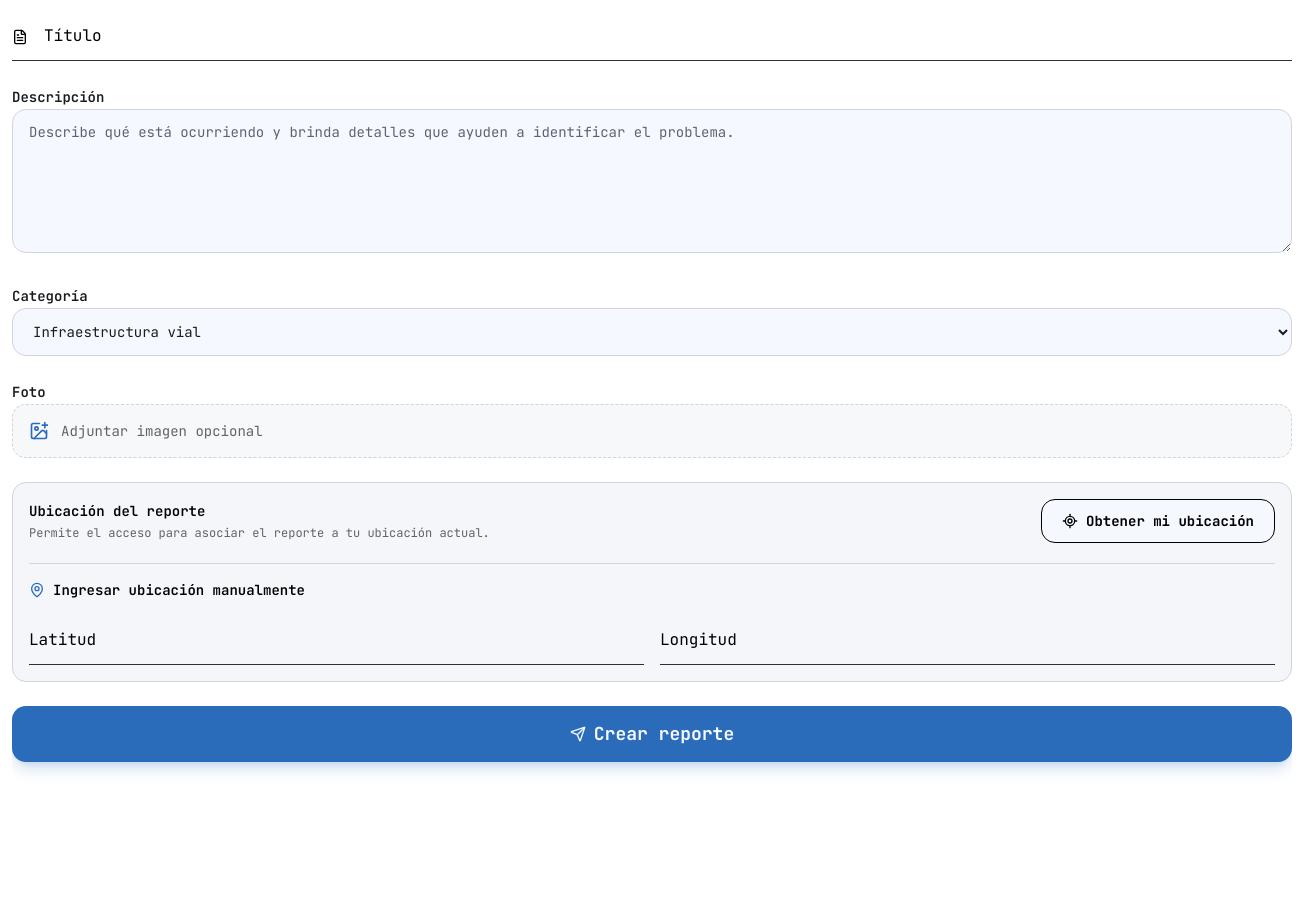
Test: CreateReportForm › muestra un error si el envío al backend falla
Type "Andén roto" into the field labelled "Título" at (652, 36), box left=12, top=12, right=1292, bottom=61
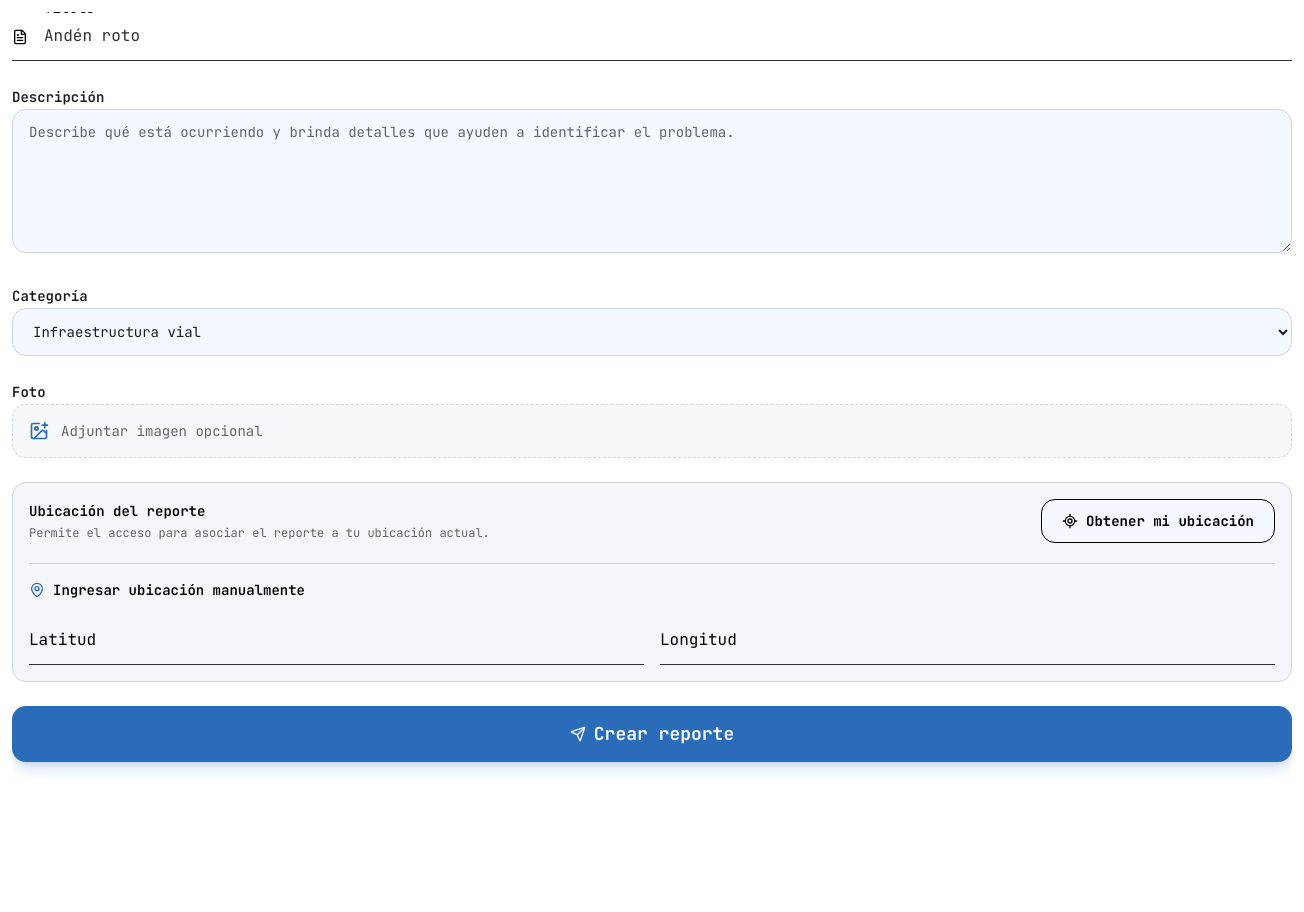
Replace the text in the text box labelled "Descripción" with "Hay una losa levantada en la esquina." at (652, 181), box left=12, top=109, right=1292, bottom=253
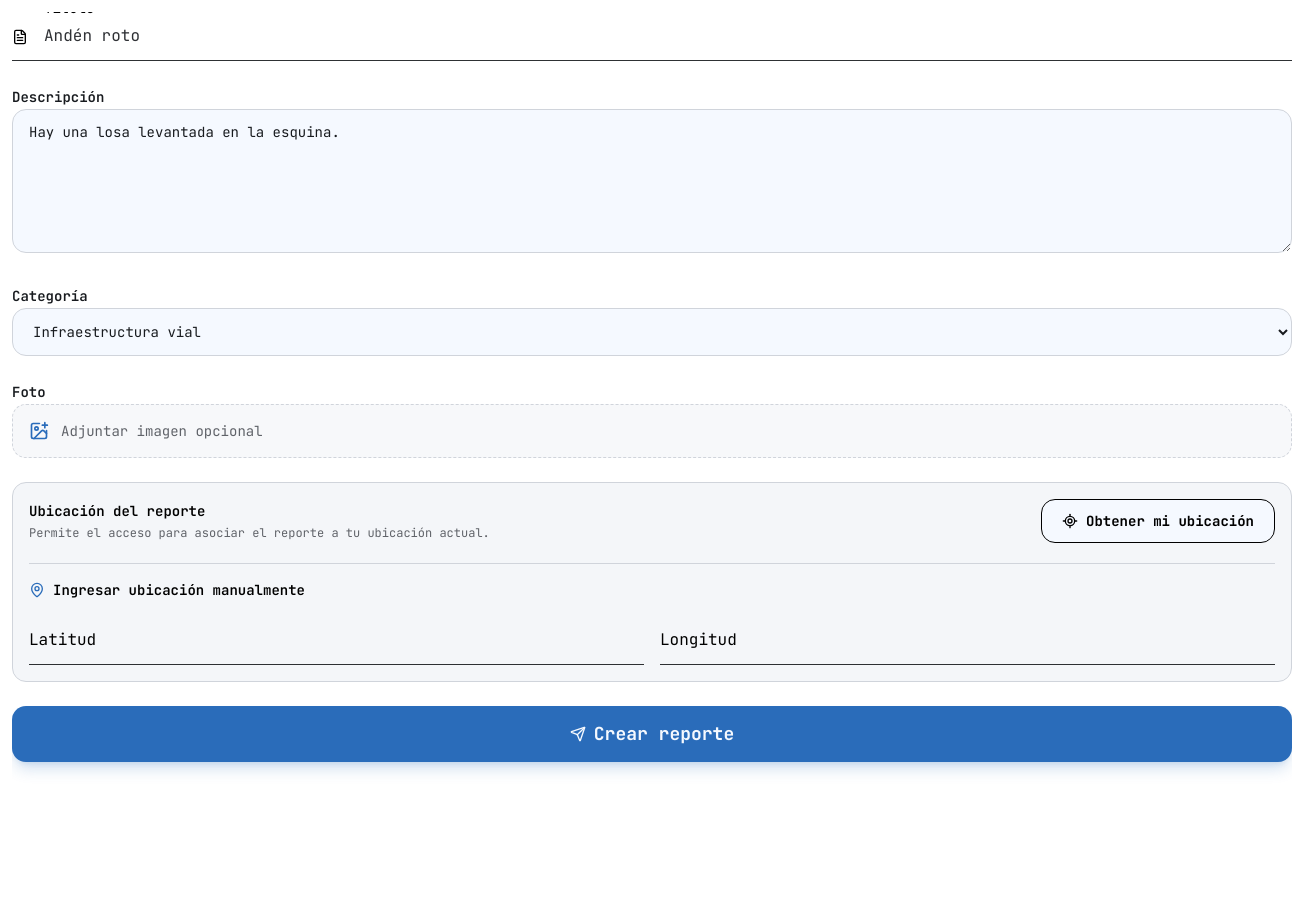
Type "4.653300" into the field labelled "Latitud" at (336, 640), box left=29, top=616, right=644, bottom=665
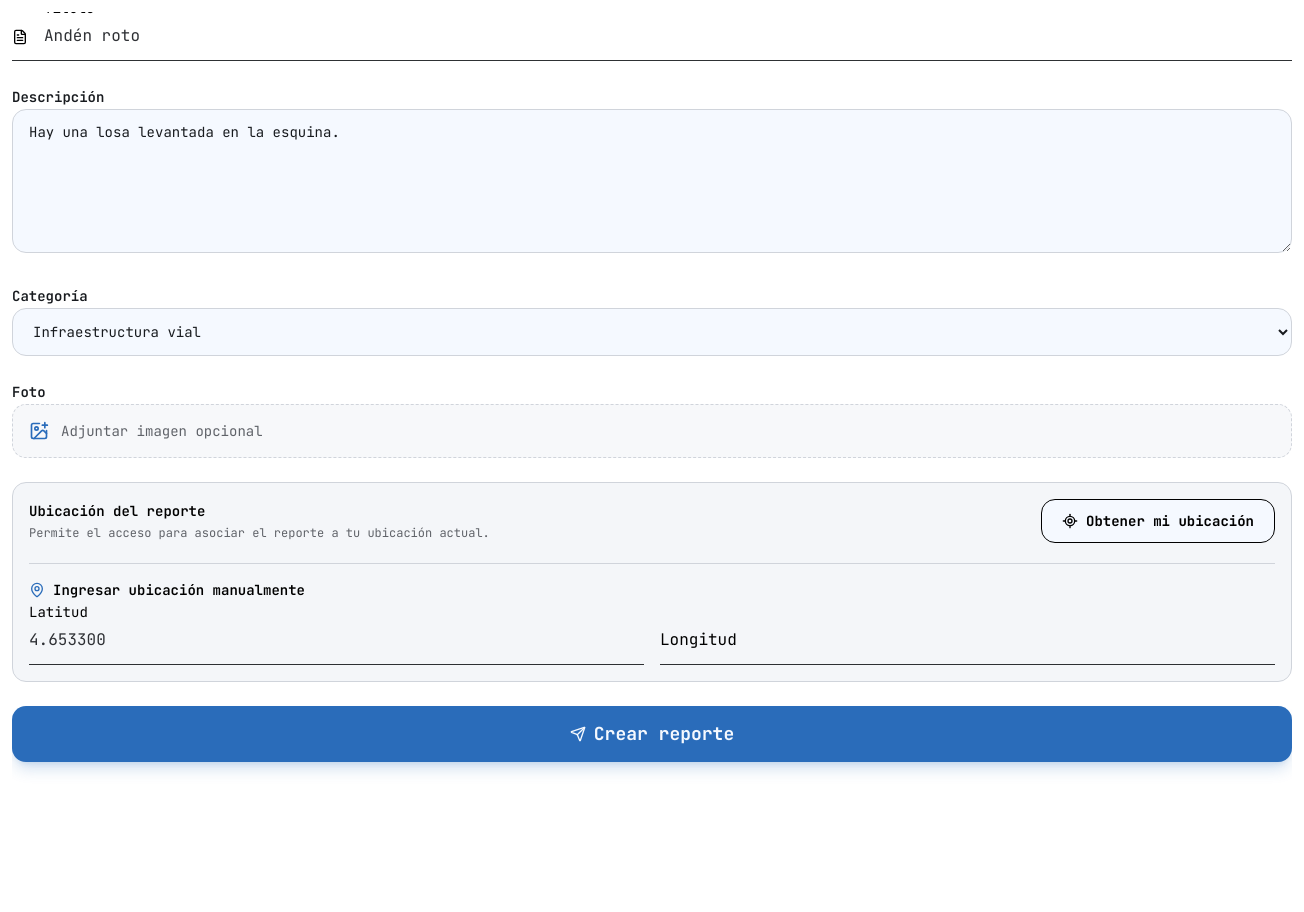
Type "-74.083700" into the field labelled "Longitud" at (968, 640), box left=660, top=616, right=1275, bottom=665
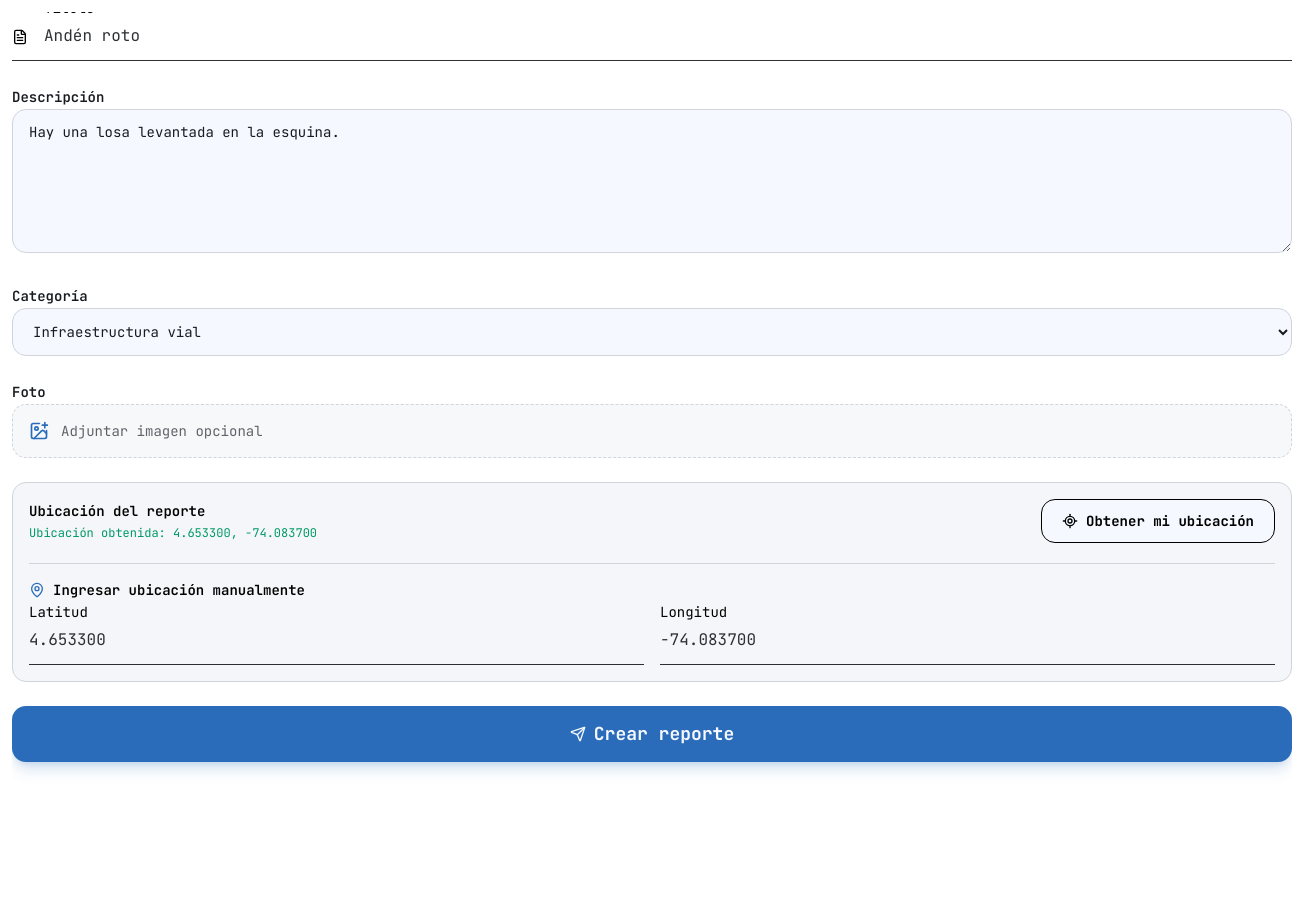
Click the button "Crear reporte" at (652, 734), box left=12, top=706, right=1292, bottom=762
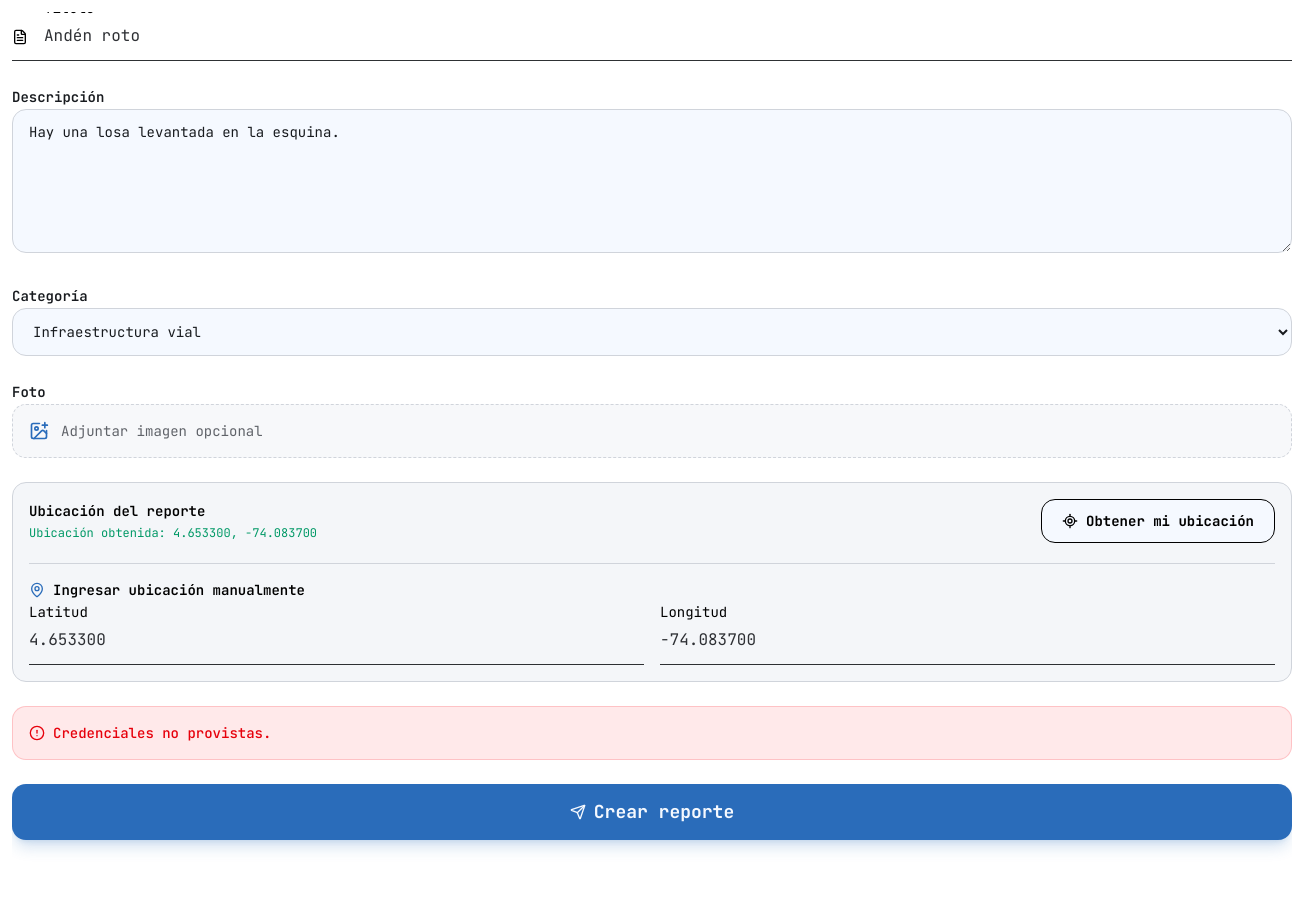
Expected: the message reads "Credenciales no provistas.", left=53, top=724, right=271, bottom=742
